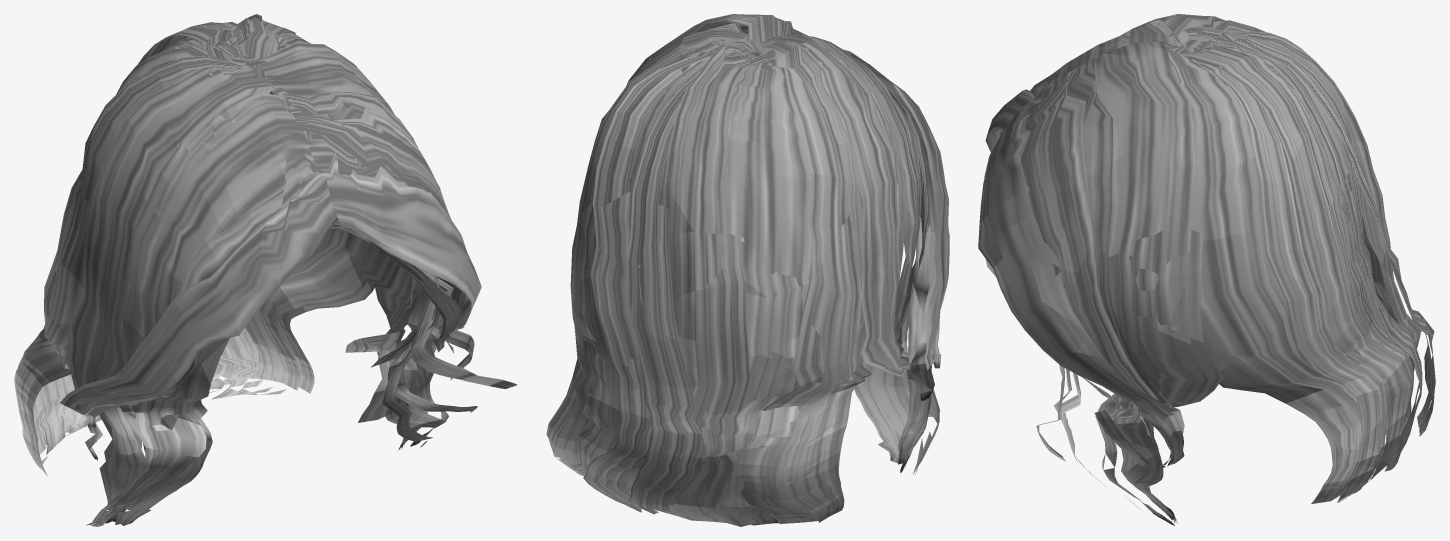
File: daz_hair_mermaid_curl.glb
The picture shows the model from 3 angles, left to right: view 1: azimuth 30°, elevation 25°; view 2: azimuth 150°, elevation 25°; view 3: azimuth 270°, elevation 25°; orthographic projection. The views are drawn at different scales.
Visible parts, largest first — view 1: daz_hair_mermaid_curl; view 2: daz_hair_mermaid_curl; view 3: daz_hair_mermaid_curl.
Boxes of the visible parts, box(x1,y1,x2,y2) form: daz_hair_mermaid_curl: box(14, 14, 517, 526); daz_hair_mermaid_curl: box(546, 14, 949, 526); daz_hair_mermaid_curl: box(978, 14, 1435, 525).
Size of the model in its own units: 0.2275 by 0.2458 by 0.2381.
Materials: 1 (1 with a texture image).
